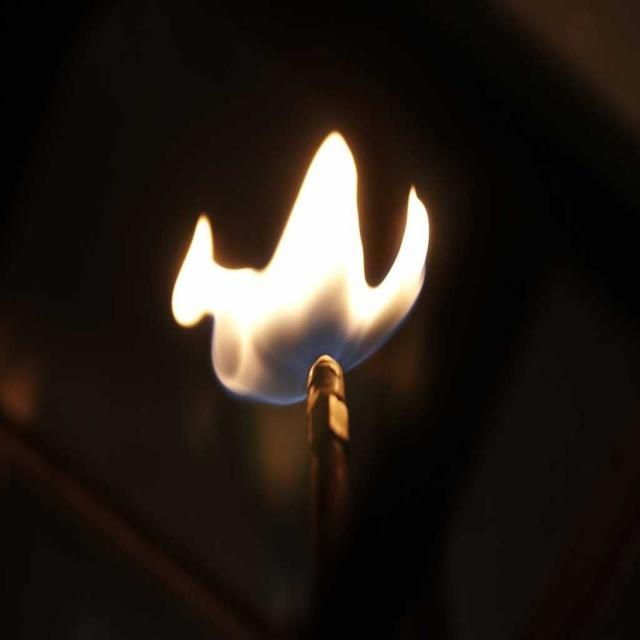Fire: (176, 122, 431, 392)
